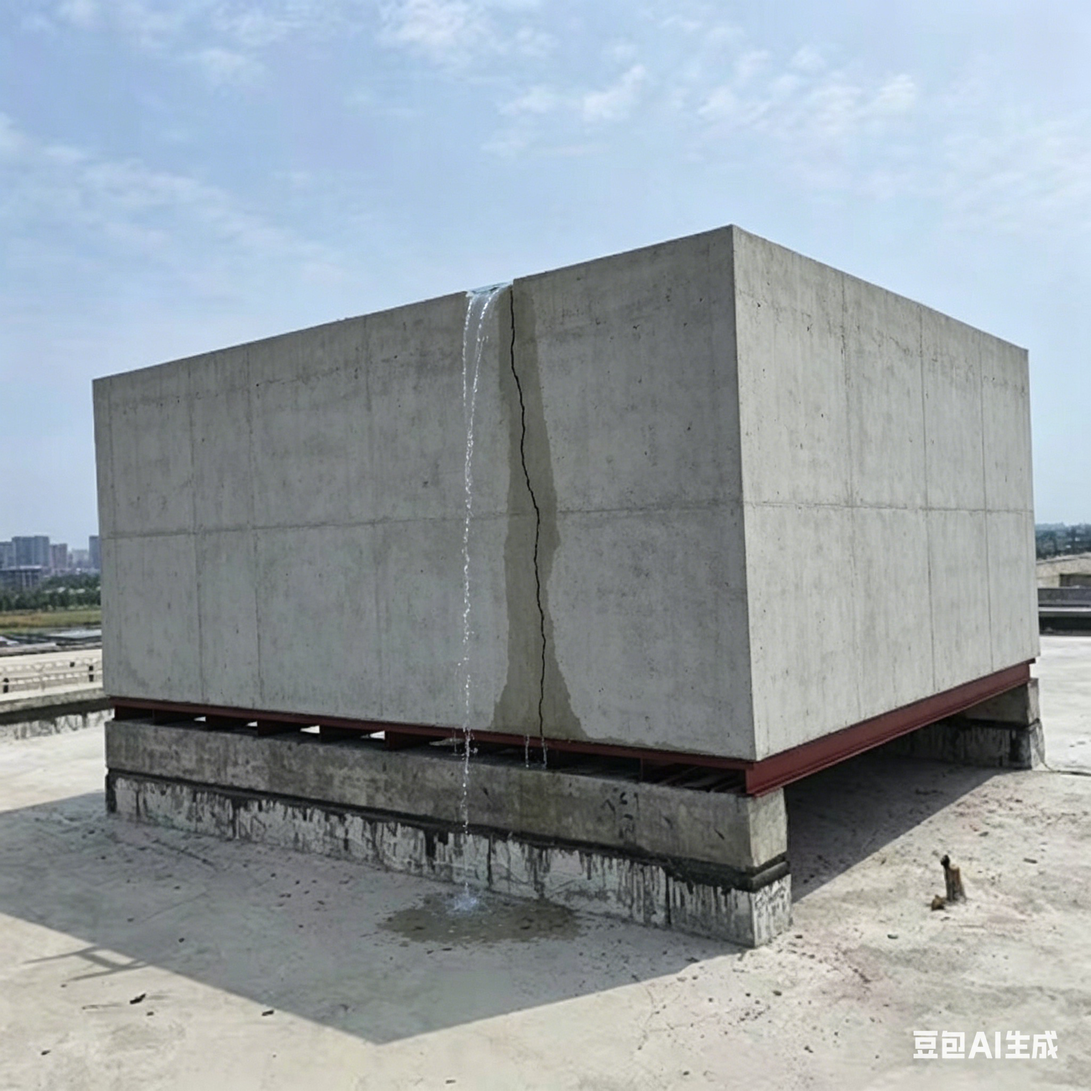Leakage: (431, 289, 552, 945), (556, 678, 590, 744), (391, 888, 431, 941)
